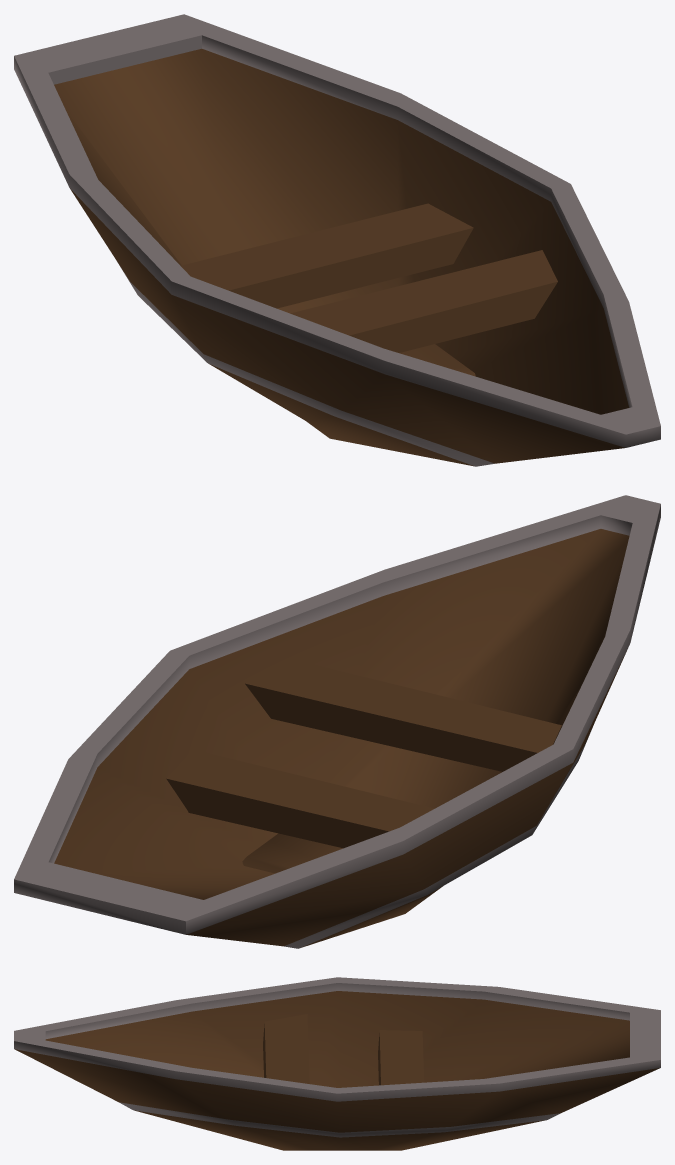
Rendered from Boat.fbx.
3 renders of one model, top to bottom at view 1: azimuth 30°, elevation 25°; view 2: azimuth 150°, elevation 25°; view 3: azimuth 270°, elevation 25°, orthographic. The views are drawn at different scales.
Parts seen in each view (by area): view 1: Cube.002; view 2: Cube.002; view 3: Cube.002.
Part boxes in pixels (x1,y1,x2,y2): Cube.002: [14, 14, 660, 466]; Cube.002: [14, 495, 660, 948]; Cube.002: [14, 977, 660, 1150].
Size of the model in its own units: 469 by 171 by 1102.
